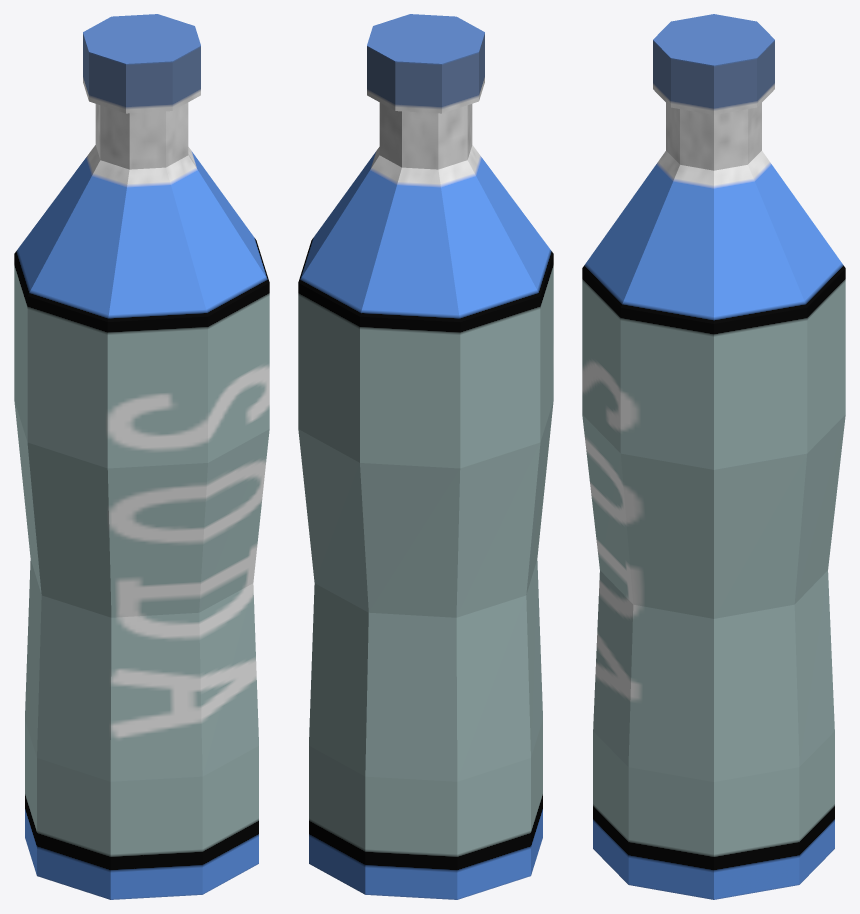
File: bottle 11.FBX
3 renders of one model, left to right at view 1: azimuth 30°, elevation 25°; view 2: azimuth 150°, elevation 25°; view 3: azimuth 270°, elevation 25°, orthographic.
Parts seen in each view (by area): view 1: 礦泉水075; view 2: 礦泉水075; view 3: 礦泉水075.
Boxes of the visible parts, x1,y1,x2,y2 form: 礦泉水075: [14, 14, 269, 899]; 礦泉水075: [298, 14, 553, 899]; 礦泉水075: [582, 14, 845, 899].
Bounding box in the file's own units: 38.33 × 130 × 38.33.
Materials: 1 (1 with a texture image).
